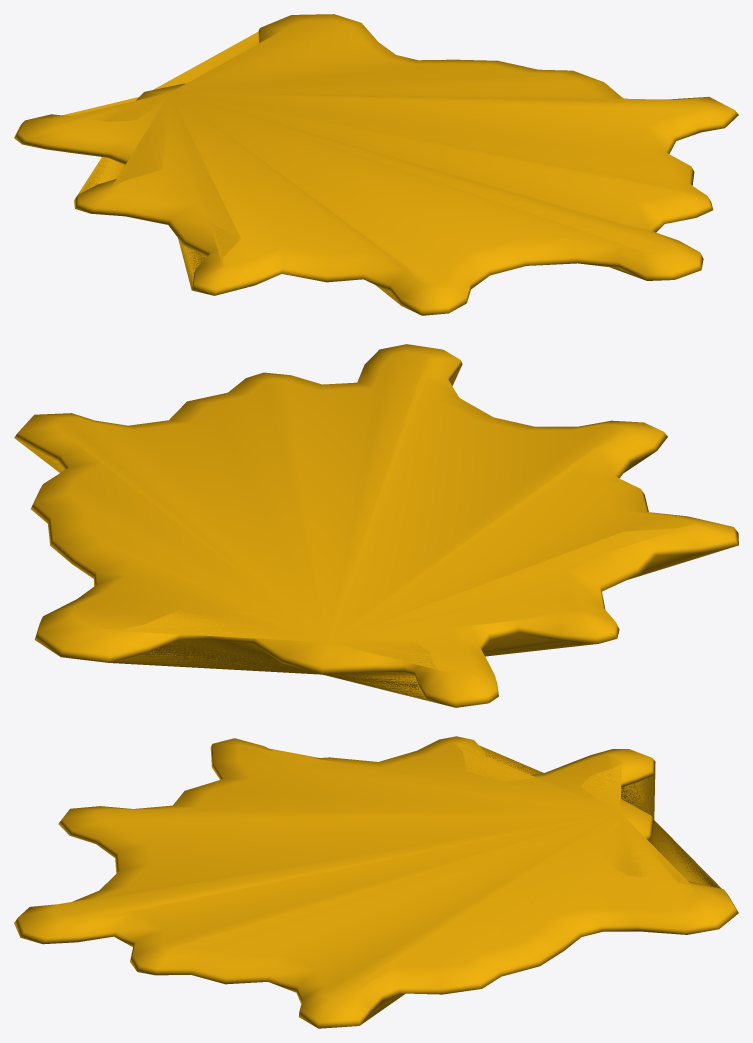
Rendered from CondimentMustard.fbx.
The picture shows the model from 3 angles, top to bottom: view 1: azimuth 30°, elevation 25°; view 2: azimuth 150°, elevation 25°; view 3: azimuth 270°, elevation 25°; orthographic projection. The views are drawn at different scales.
Visible parts, largest first — view 1: Condiment Mustard; view 2: Condiment Mustard; view 3: Condiment Mustard.
Boxes of the visible parts, box(x1,y1,x2,y2) form: Condiment Mustard: box(14, 14, 738, 315); Condiment Mustard: box(14, 344, 738, 707); Condiment Mustard: box(14, 736, 738, 1028).
Size of the model in its own units: 174 by 3.75 by 185.
